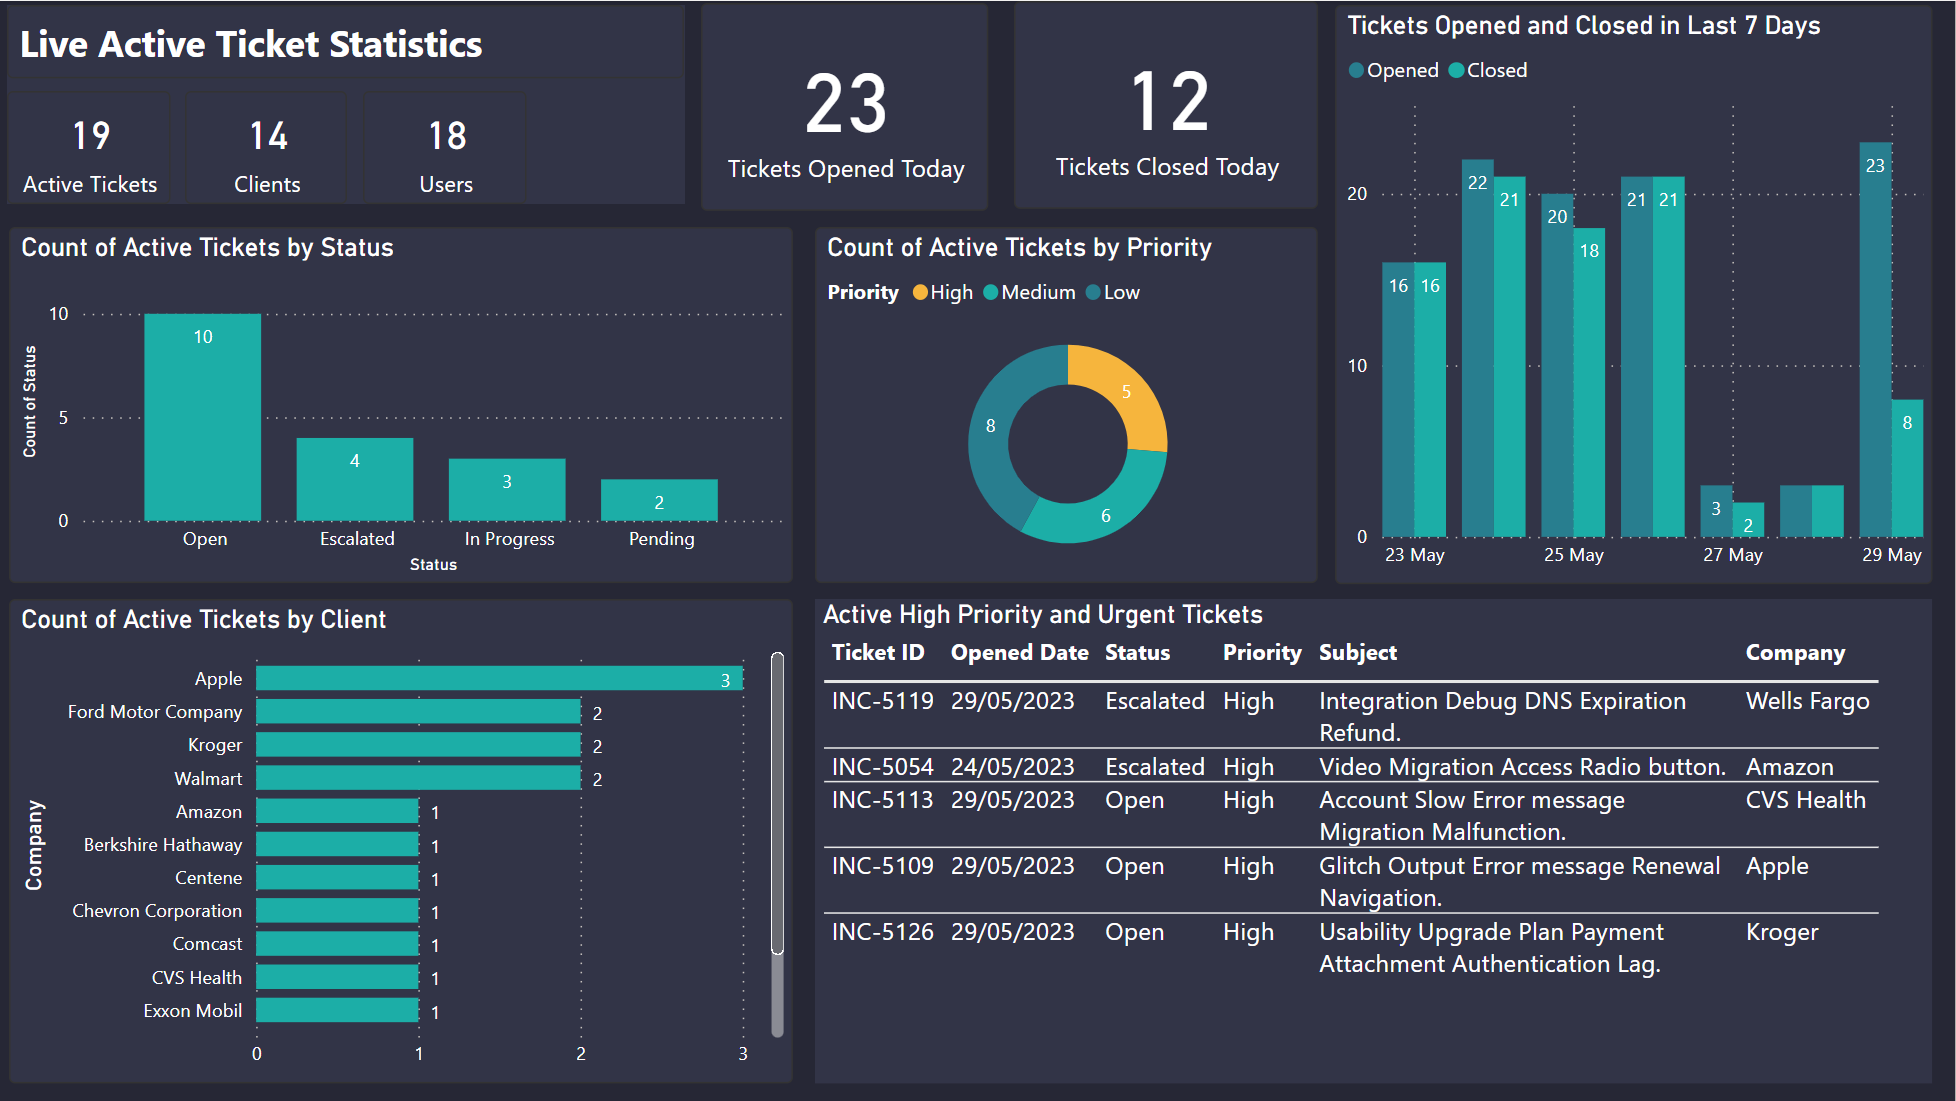

This screenshot's page, from the dashboard's own definition file:
{"tool":"powerbi","page":{"name":"Live Stats","canvas":[1280,720],"ordinal":1},"visuals":[{"type":"clusteredColumnChart","title":"Count of Active Tickets by Status","fields":{"Category":["03_tickets.Status"],"Y":["CountNonNull(03_tickets.Status)"]},"box":[6.9,148.2,513.2,233.3],"z":0},{"type":"clusteredBarChart","title":"Count of Active Tickets by Client","fields":{"Category":["02_Users.Company"],"Y":["CountNonNull(03_tickets.Opened Date)"]},"box":[6.9,391.1,513.2,317],"z":1000},{"type":"donutChart","title":"Count of Active Tickets by Priority","fields":{"Category":["03_tickets.Priority"],"Y":["CountNonNull(03_tickets.Priority)"]},"box":[533.8,148.2,329.3,233.3],"z":2000},{"type":"card","fields":{"Values":["Count(03_tickets.User ID)"]},"box":[238.8,59,107,74.1],"z":3000,"group":"g1"},{"type":"tableEx","title":"Active High Priority and Urgent Tickets","fields":{"Values":["03_tickets.Ticket ID","03_tickets.Opened Date","03_tickets.Status","03_tickets.Priority","03_tickets.Subject","02_Users.Company"]},"box":[533.8,391.1,731.4,317],"z":3000},{"type":"card","fields":{"Values":["03_tickets.Closed Today"]},"box":[664.2,0,199,135.8],"z":4000},{"type":"card","fields":{"Values":["03_tickets.Opened Today"]},"box":[459.7,1.4,188,135.8],"z":5000},{"type":"card","fields":{"Values":["Count(02_Users.Company)"]},"box":[122.1,59,105.7,74.1],"z":10000,"group":"g1"},{"type":"textbox","box":[5.5,2.7,443.2,48.4],"z":11000,"group":"g1"},{"type":"card","fields":{"Values":["CountNonNull(03_tickets.Opened Date)"]},"box":[5.5,59.1,106.6,73.9],"z":12000,"group":"g1"},{"type":"group","id":"g1","title":"Group 1","box":[5.5,2.7,443.2,130.4],"z":12001},{"type":"clusteredColumnChart","title":"Tickets Opened and Closed in Last 7 Days","fields":{"Category":["03_tickets.Opened Date"],"Y":["CountNonNull(03_tickets.Opened Date)","CountNonNull(03_tickets.Resolved Date)"]},"box":[874.1,2.7,391.1,378.7],"z":12002}]}

Visuals, with their boxes in screenshot pixels (x1, y1, x2, y2), scaled from the page's 1280x720 canvas onto the 1956x1101 screenshot:
"Count of Active Tickets by Status" clusteredColumnChart: <box>11,227,795,583</box>
"Count of Active Tickets by Client" clusteredBarChart: <box>11,598,795,1083</box>
"Count of Active Tickets by Priority" donutChart: <box>816,227,1319,583</box>
card - Count(03_tickets.User ID): <box>365,90,528,204</box>
"Active High Priority and Urgent Tickets" tableEx: <box>816,598,1933,1083</box>
card - 03_tickets.Closed Today: <box>1015,0,1319,208</box>
card - 03_tickets.Opened Today: <box>702,2,990,210</box>
card - Count(02_Users.Company): <box>187,90,348,204</box>
textbox: <box>8,4,686,78</box>
card - CountNonNull(03_tickets.Opened Date): <box>8,90,171,203</box>
"Group 1" group: <box>8,4,686,204</box>
"Tickets Opened and Closed in Last 7 Days" clusteredColumnChart: <box>1336,4,1933,583</box>
